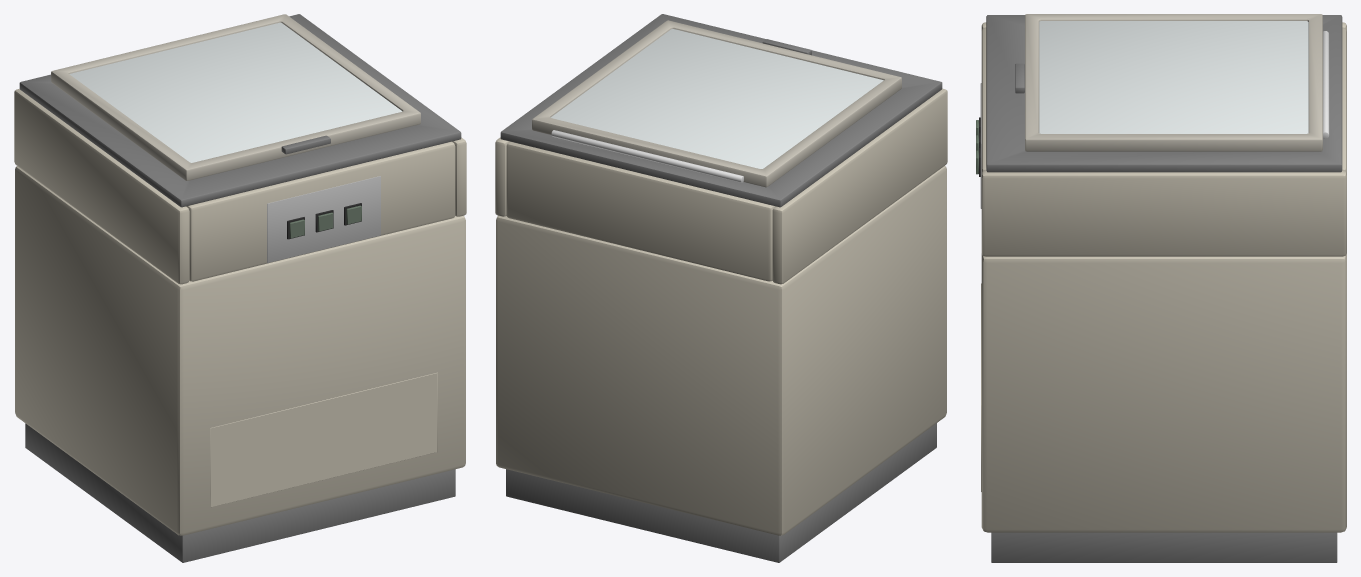
Rendered from Kit_SystemCabinet_DiskPack_Off.fbx.
3 renders of one model, left to right at view 1: azimuth 30°, elevation 25°; view 2: azimuth 150°, elevation 25°; view 3: azimuth 270°, elevation 25°, orthographic. The views are drawn at different scales.
Parts seen in each view (by area): view 1: Kit_SystemCabinet_DiskPack_LOD0; view 2: Kit_SystemCabinet_DiskPack_LOD0; view 3: Kit_SystemCabinet_DiskPack_LOD0.
Boxes of the visible parts, left/top/right/bottom form: Kit_SystemCabinet_DiskPack_LOD0: left=14, top=14, right=466, bottom=562; Kit_SystemCabinet_DiskPack_LOD0: left=495, top=14, right=947, bottom=562; Kit_SystemCabinet_DiskPack_LOD0: left=976, top=14, right=1346, bottom=562.
Size of what is drawn, in the model's own units: 0.76 by 0.952 by 0.7716.
